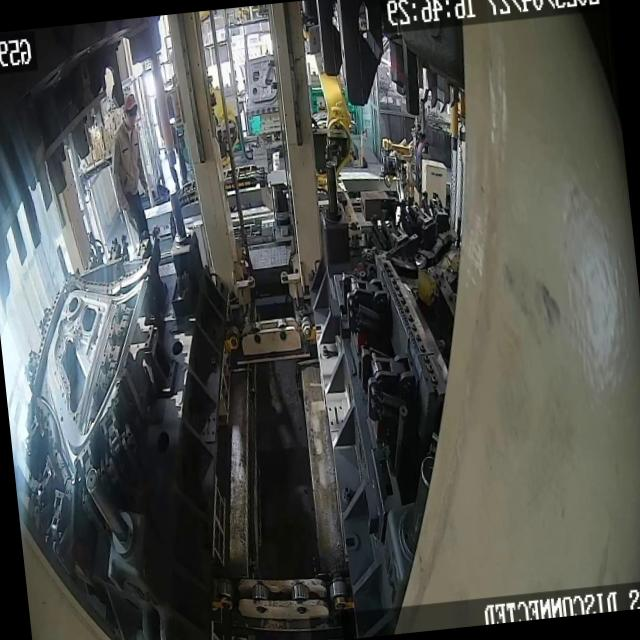Person: (105, 92, 156, 258)
